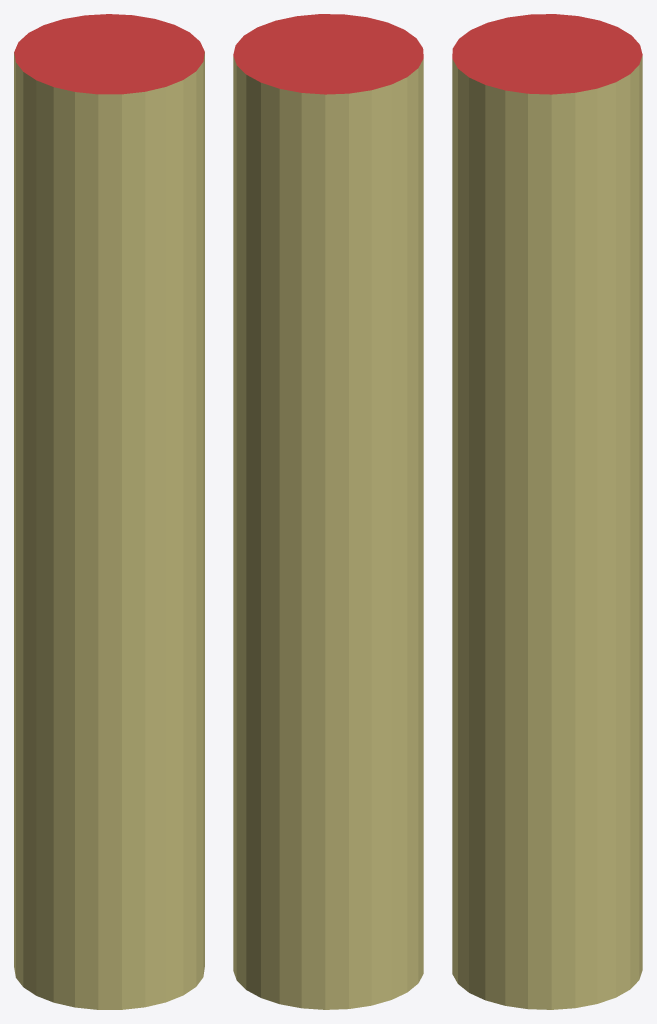
3 renders of one model, left to right at view 1: azimuth 30°, elevation 25°; view 2: azimuth 150°, elevation 25°; view 3: azimuth 270°, elevation 25°, orthographic.
Bounding box in the file's own units: 3.19 × 3.18 × 16.89.
